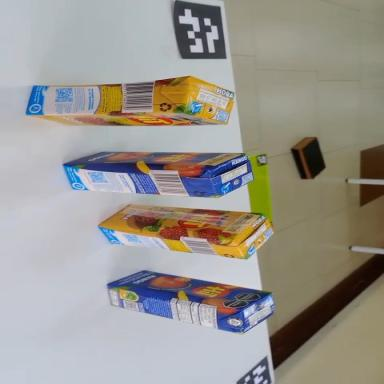HIT-MANGO: (102, 260, 277, 339), (62, 150, 253, 197)
HIT-MORA: (26, 75, 234, 127), (98, 201, 275, 261)
cara_F: (107, 264, 272, 315), (98, 201, 262, 242), (62, 151, 245, 171), (30, 113, 225, 126)
